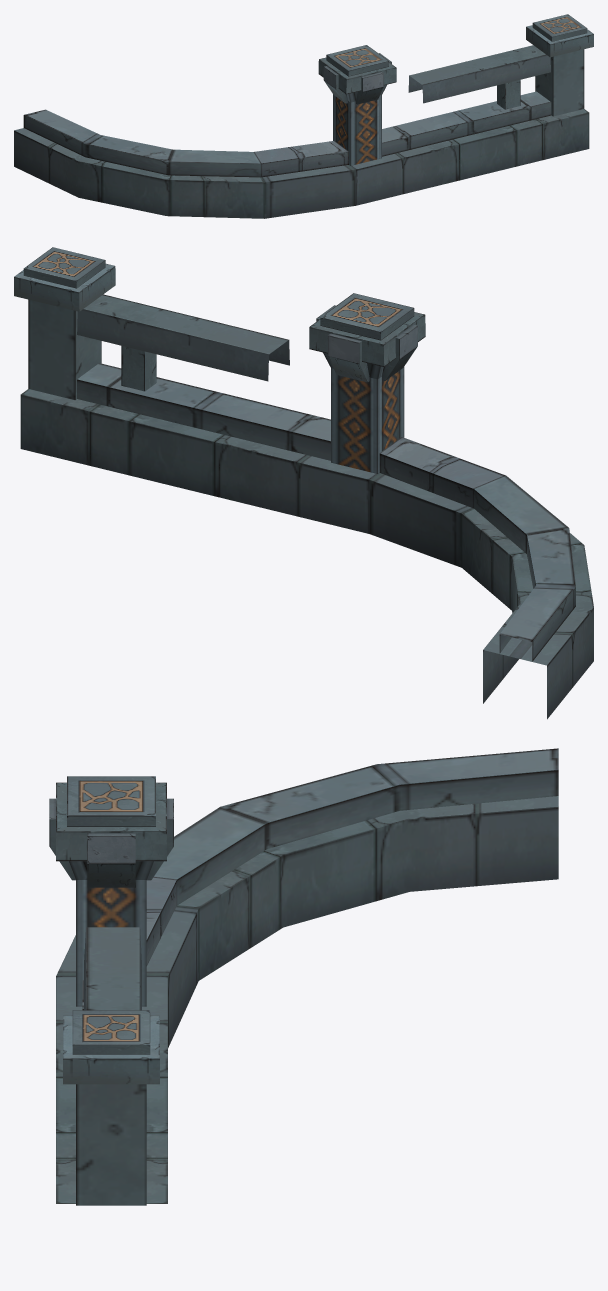
File: 2_ChengZhen_LanGan_01.FBX
3 views of the same model, one above another, from view 1: azimuth 30°, elevation 25°; view 2: azimuth 150°, elevation 25°; view 3: azimuth 270°, elevation 25° (orthographic). The views are drawn at different scales.
Parts seen in each view (by area): view 1: 2_ChengZhen_LanGan_02, 2_ChengZhen_LanGan_01, 2_ChengZhen_LanGan_03, 2_ChengZhen_LanGan_05, 2_ChengZhen_LanGan_04, 2_ChengZhen_LanGan_06; view 2: 2_ChengZhen_LanGan_01, 2_ChengZhen_LanGan_02, 2_ChengZhen_LanGan_03, 2_ChengZhen_LanGan_05, 2_ChengZhen_LanGan_04, 2_ChengZhen_LanGan_06; view 3: 2_ChengZhen_LanGan_02, 2_ChengZhen_LanGan_03, 2_ChengZhen_LanGan_05, 2_ChengZhen_LanGan_01, 2_ChengZhen_LanGan_04.
Part boxes in pixels (x1,y1,x2,y2): 2_ChengZhen_LanGan_02: (14,109,355,218); 2_ChengZhen_LanGan_01: (351,91,589,205); 2_ChengZhen_LanGan_03: (318,45,396,165); 2_ChengZhen_LanGan_05: (526,14,593,116); 2_ChengZhen_LanGan_04: (408,45,550,103); 2_ChengZhen_LanGan_06: (497,79,520,109); 2_ChengZhen_LanGan_01: (20,363,377,533); 2_ChengZhen_LanGan_02: (369,437,593,719); 2_ChengZhen_LanGan_03: (309,293,425,473); 2_ChengZhen_LanGan_05: (14,247,115,399); 2_ChengZhen_LanGan_04: (77,294,289,381); 2_ChengZhen_LanGan_06: (121,345,156,391); 2_ChengZhen_LanGan_02: (56,748,558,1047); 2_ChengZhen_LanGan_03: (49,776,173,1006); 2_ChengZhen_LanGan_05: (63,1010,159,1205); 2_ChengZhen_LanGan_01: (56,976,167,1203); 2_ChengZhen_LanGan_04: (84,927,141,1010).
Bounding box in the file's own units: 1131 × 317 × 547.
